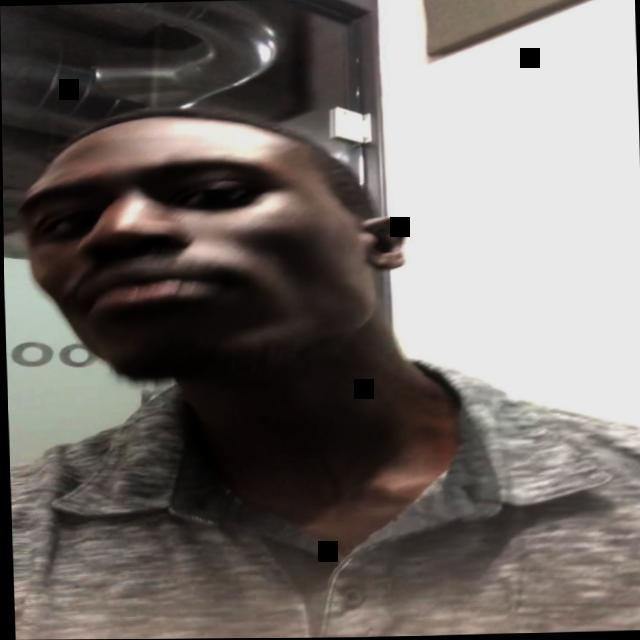NO-Mask: (20, 136, 369, 380)
